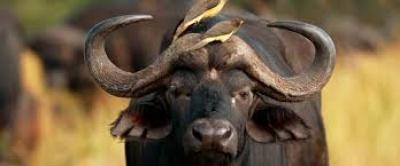buffalo: (85, 0, 335, 165)
